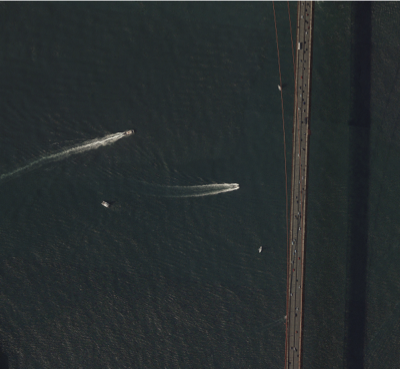boat: (101, 200, 111, 208), (125, 129, 135, 135), (257, 245, 263, 252), (278, 84, 282, 90), (234, 185, 240, 187)
